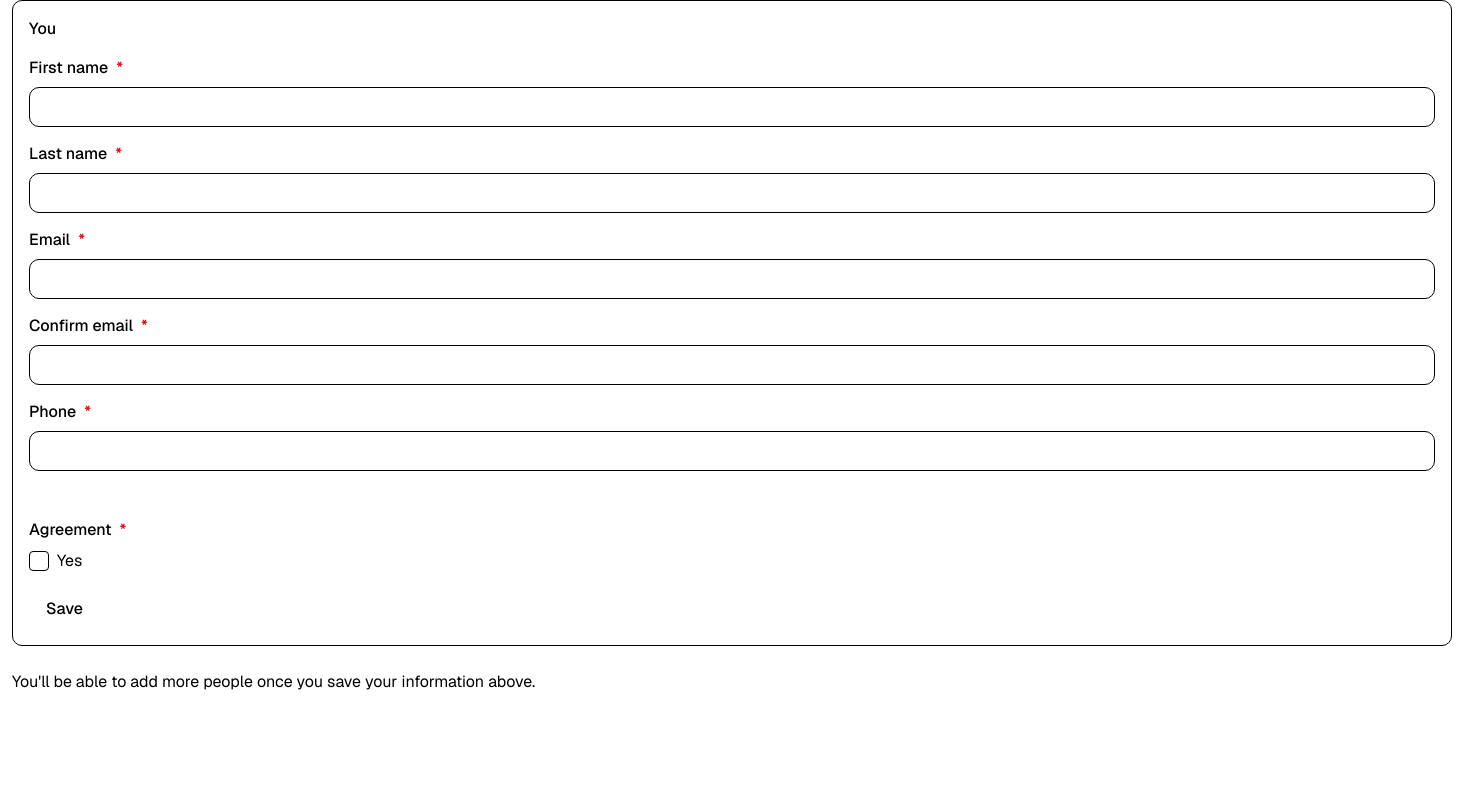
Test: RegistrationForm › submit › hides Continue while a card is open, showing it once the person is done
expect the button "Continue" is not shown: met
expect the text "you.ll be able to add more people" is shown: met, box [12, 671, 535, 692]
Type "Jane" into the field labelled "First name" at (732, 107), box [29, 87, 1435, 127]
Type "Doe" into the field labelled "Last name" at (732, 193), box [29, 173, 1435, 213]
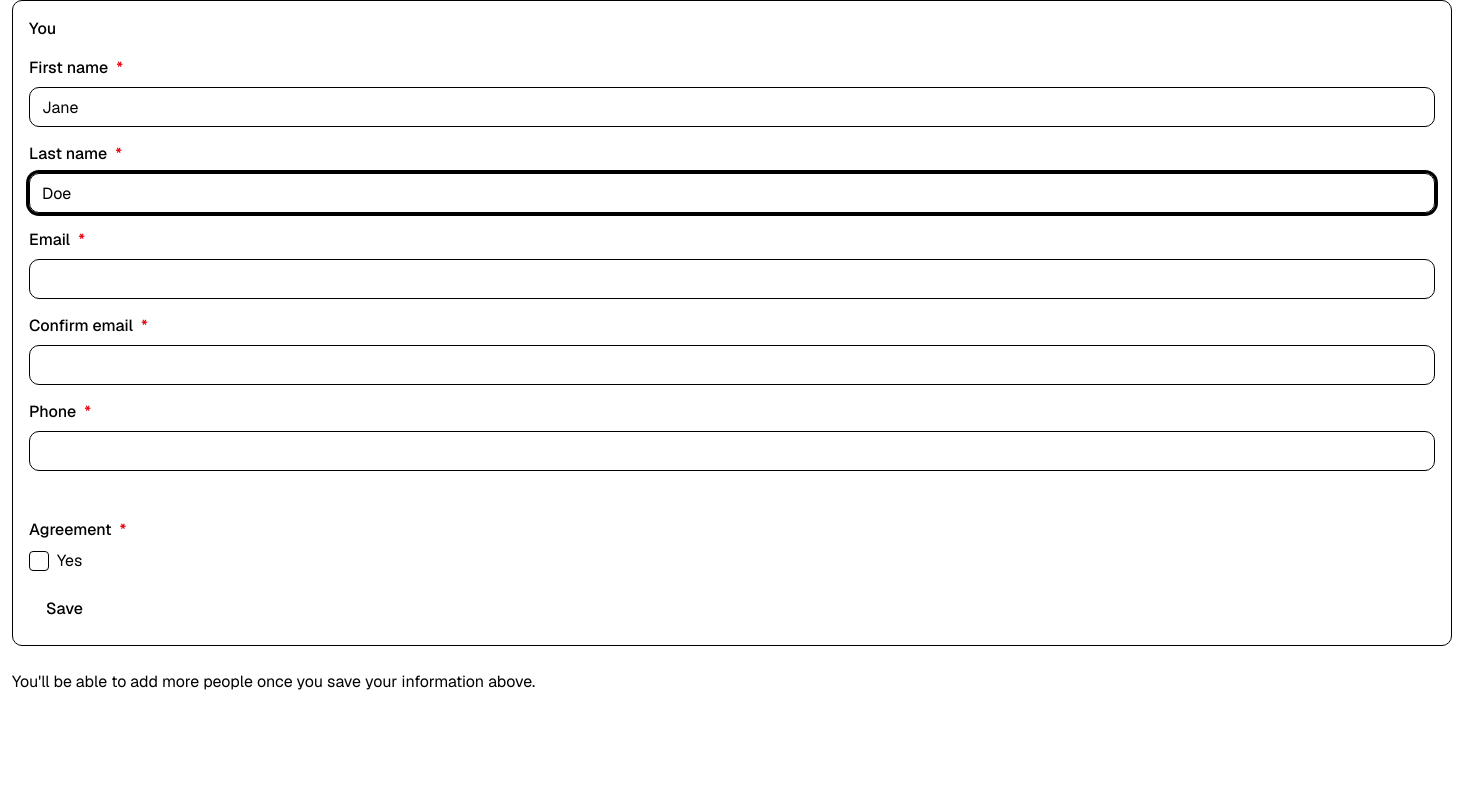
Type "jane@example.com" into the field labelled "Email *" at (732, 279), box [29, 259, 1435, 299]
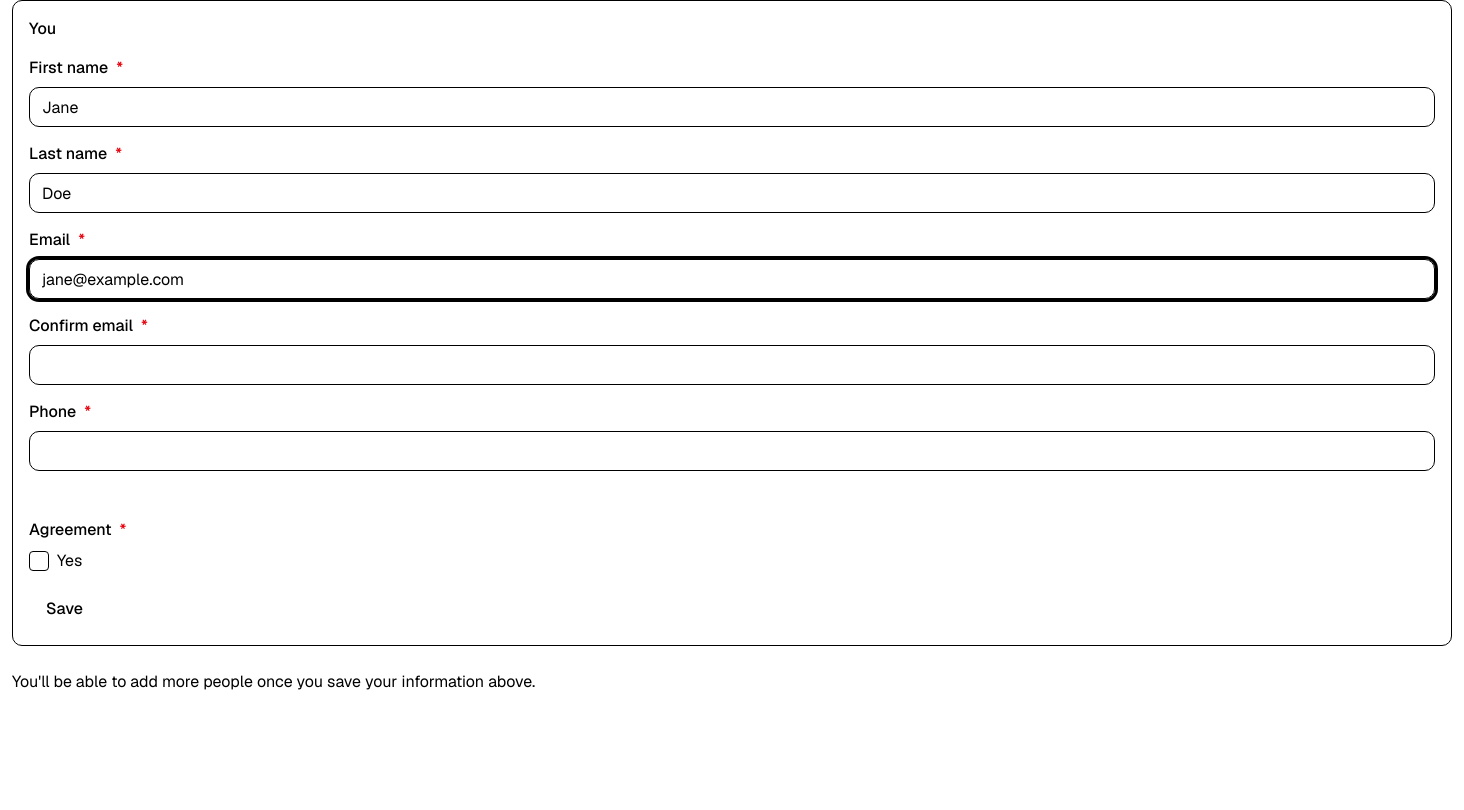
Type "jane@example.com" into the field labelled "Confirm email *" at (732, 365), box [29, 345, 1435, 385]
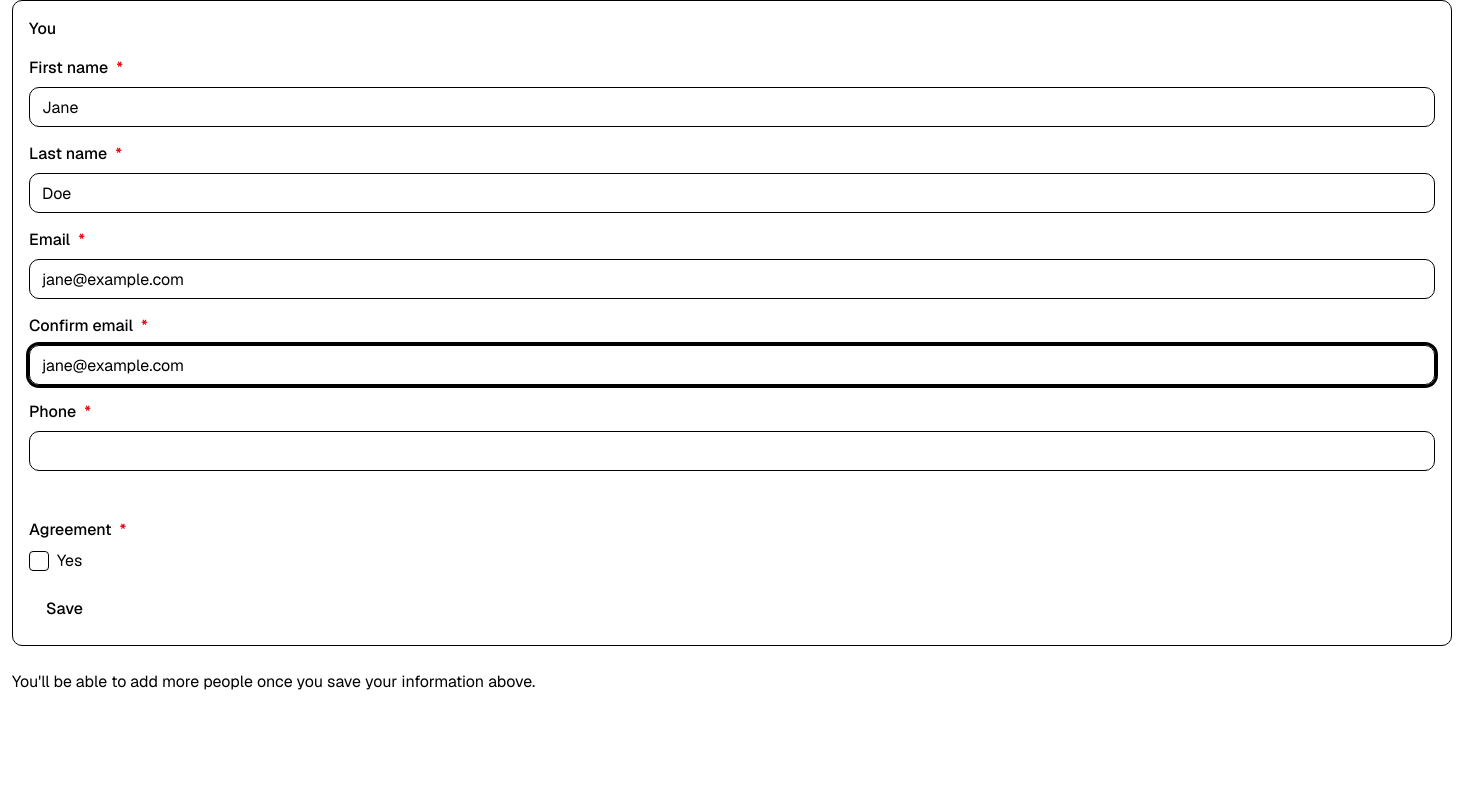
Type "555-555-5555" into the field labelled "Phone" at (732, 451), box [29, 431, 1435, 471]
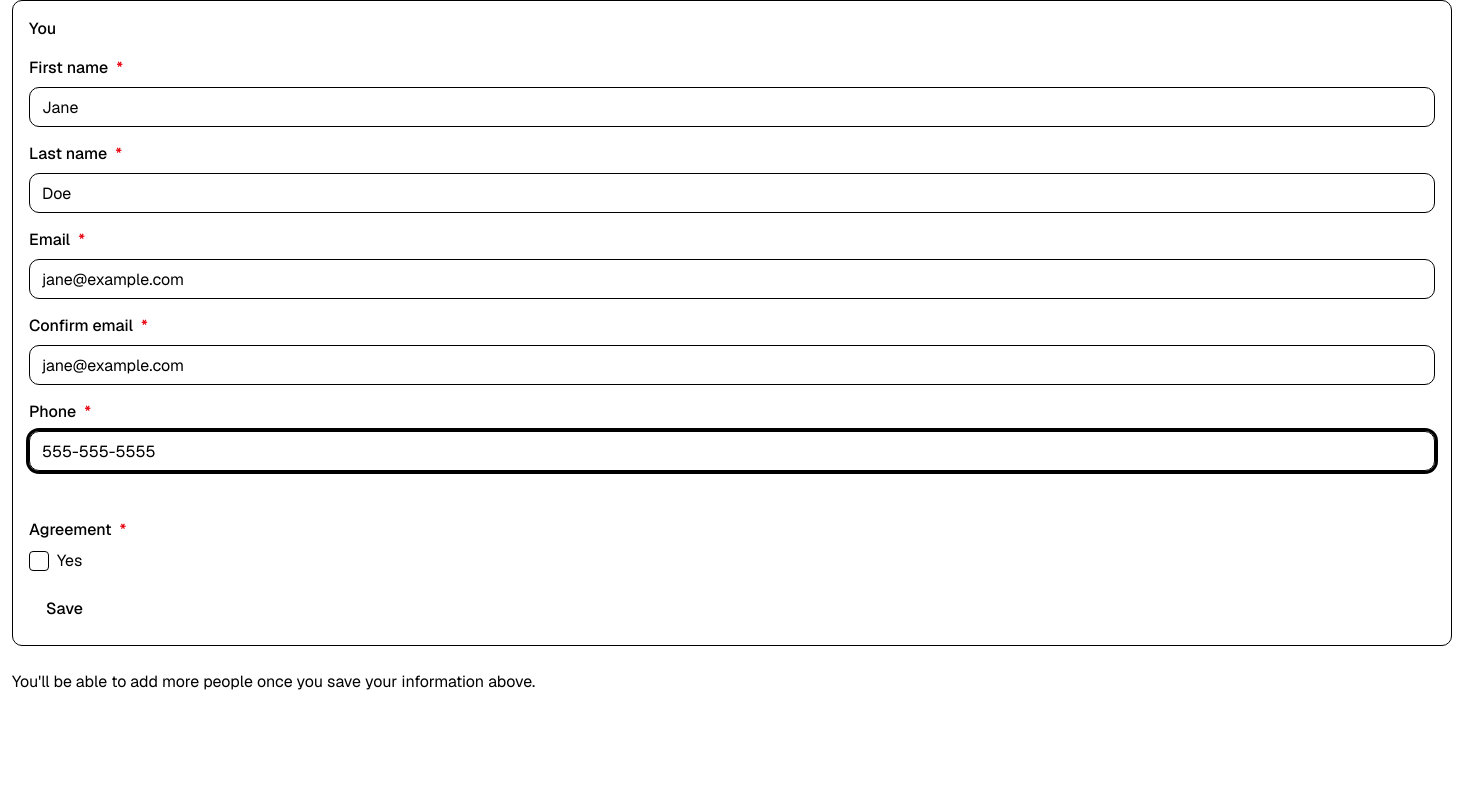
Click the checkbox named "Yes" at (39, 561), box [29, 551, 49, 571]
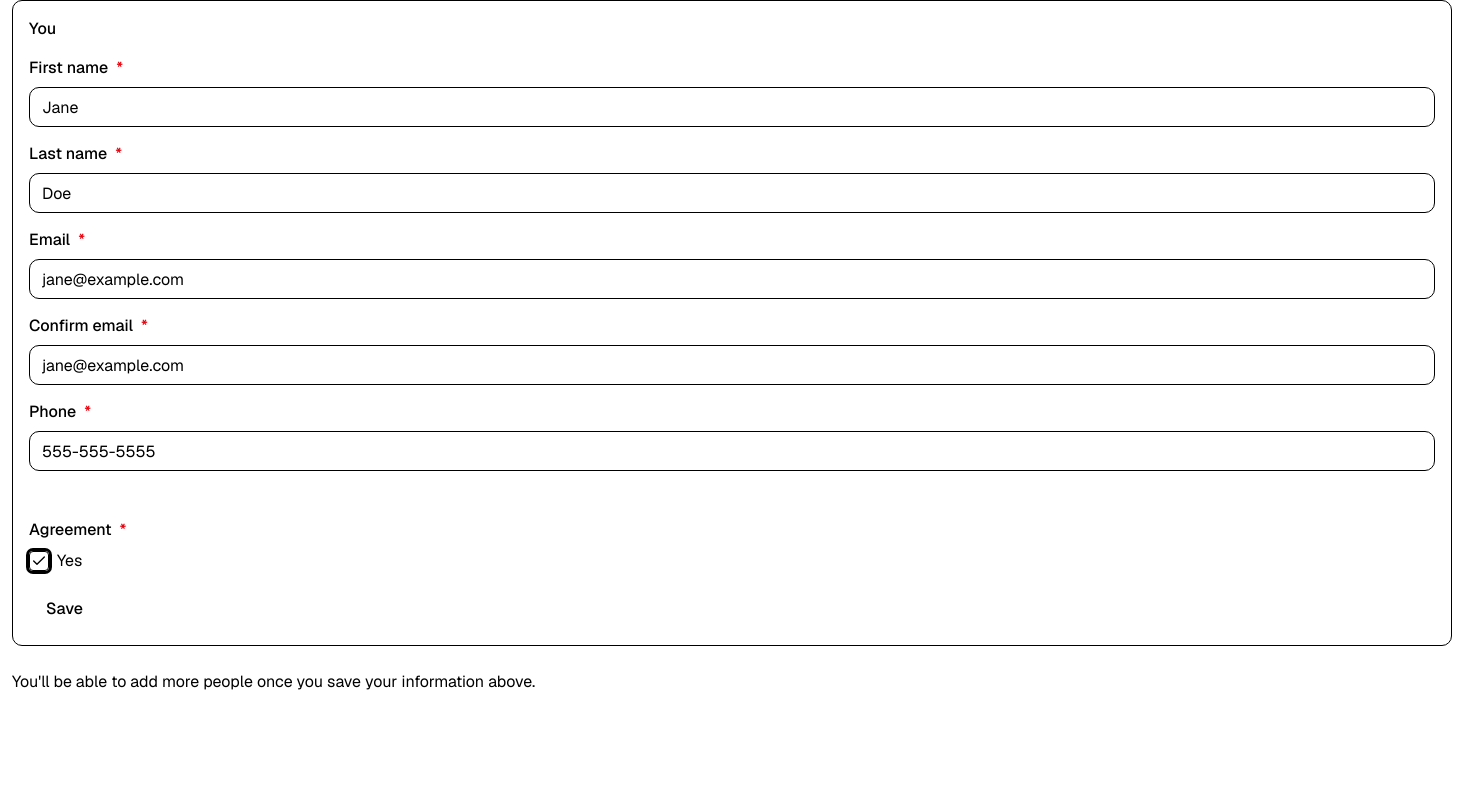
Click the button "Save" at (64, 609), box [29, 589, 100, 629]
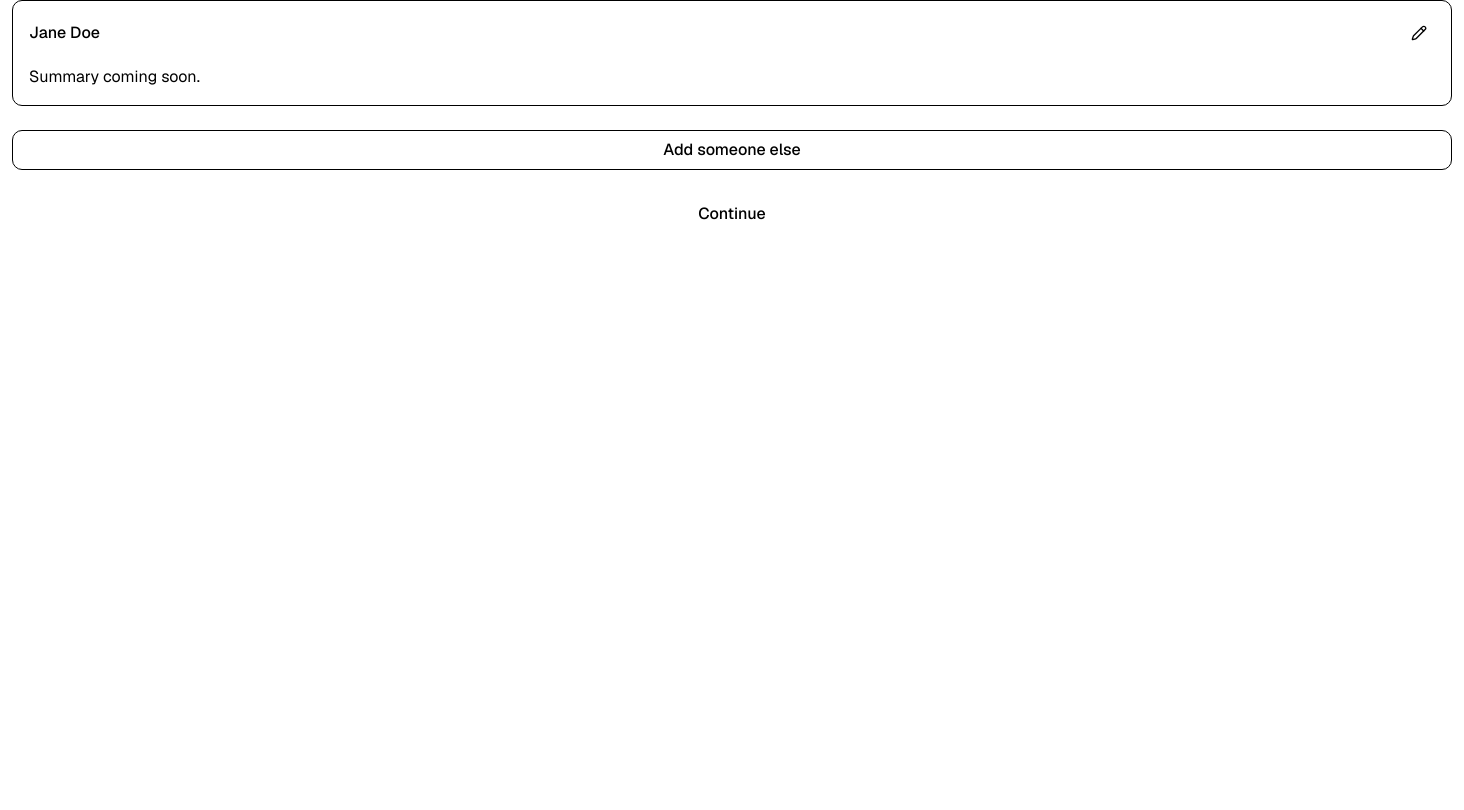
expect the button "Continue" is shown: met, box [12, 194, 1452, 234]
